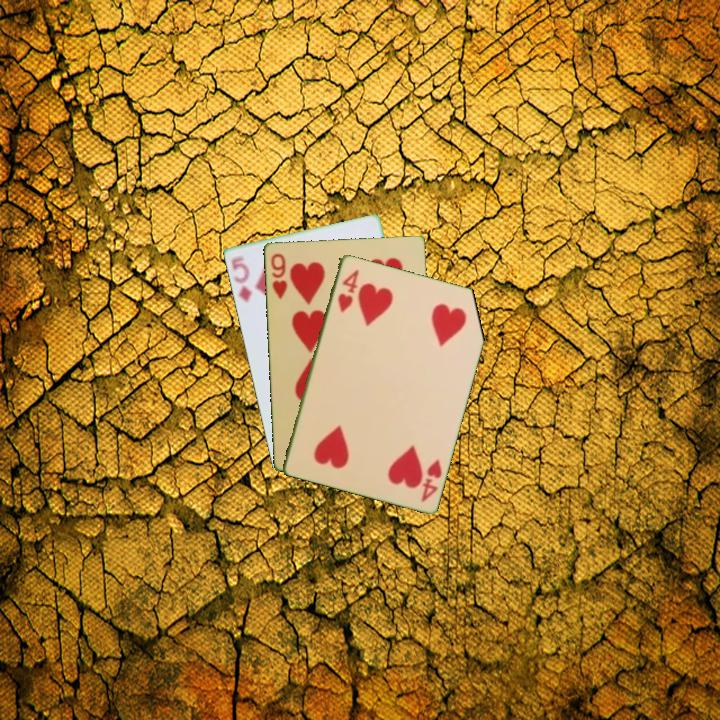4h: (334, 266, 361, 315), (417, 456, 444, 505)
5d: (228, 252, 254, 305)
9h: (267, 250, 290, 301)
